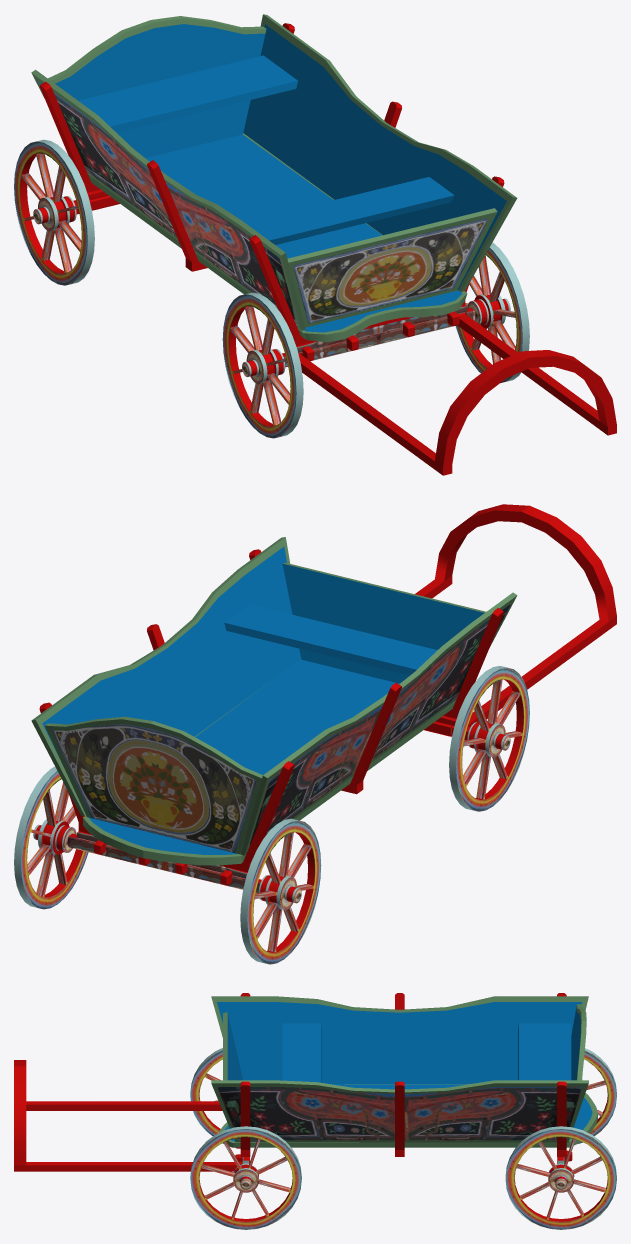
Rendered from Karuchka_B_Export.fbx.
3 renders of one model, top to bottom at view 1: azimuth 30°, elevation 25°; view 2: azimuth 150°, elevation 25°; view 3: azimuth 270°, elevation 25°, orthographic. The views are drawn at different scales.
Parts seen in each view (by area): view 1: Karuchka_B_pCube3, Karuchka_B_pCube7, Karuchka_B_pCube1, Karuchka_B_pCube8, Karuchka_B_polySurface1, pCylinder9, pCylinder10, Karuchka_B1_pCube15, pCylinder6, Karuchka_B_polySurface2, Karuchka_B1_pCube9; view 2: Karuchka_B_pCube3, Karuchka_B_pCube7, Karuchka_B_pCube1, Karuchka_B_pCube8, pCylinder10, pCylinder9, Karuchka_B_polySurface1, pCylinder8, Karuchka_B1_pCube15, Karuchka_B1_pCube16; view 3: Karuchka_B_pCube3, Karuchka_B_polySurface1, pCylinder6, pCylinder8, Karuchka_B_pCube1, Karuchka_B1_pCube15, pCylinder9, pCylinder10, Karuchka_B_pCube7, Karuchka_B_pCube8.
Part boxes in pixels (x1,y1,x2,y2): Karuchka_B_pCube3: (31,14,517,330); Karuchka_B_pCube7: (48,16,266,157); Karuchka_B_pCube1: (88,133,467,342); Karuchka_B_pCube8: (287,208,497,327); Karuchka_B_polySurface1: (298,312,616,475); pCylinder9: (14,139,94,285); pCylinder10: (222,292,303,438); Karuchka_B1_pCube15: (39,23,504,345); pCylinder6: (455,242,529,382); Karuchka_B_polySurface2: (282,307,475,367); Karuchka_B1_pCube9: (296,305,467,352); Karuchka_B_pCube3: (31,537,517,855); Karuchka_B_pCube7: (44,716,262,854); Karuchka_B_pCube1: (83,659,455,865); Karuchka_B_pCube8: (282,562,485,683); pCylinder10: (449,666,529,811); pCylinder9: (240,818,321,964); Karuchka_B_polySurface1: (415,504,616,736); pCylinder8: (14,766,88,909); Karuchka_B1_pCube15: (39,549,504,872); Karuchka_B1_pCube16: (68,833,261,892); Karuchka_B_pCube3: (211,996,588,1142); Karuchka_B_polySurface1: (14,1060,249,1171); pCylinder6: (190,1126,301,1229); pCylinder8: (505,1126,616,1229); Karuchka_B_pCube1: (219,1084,597,1147); Karuchka_B1_pCube15: (240,993,566,1156); pCylinder9: (578,1048,616,1143); pCylinder10: (190,1048,222,1135); Karuchka_B_pCube7: (571,1004,586,1080); Karuchka_B_pCube8: (223,1012,242,1080).
Size of the model in its own units: 15.98 by 12.75 by 42.
Materials: 7 (2 with a texture image).
